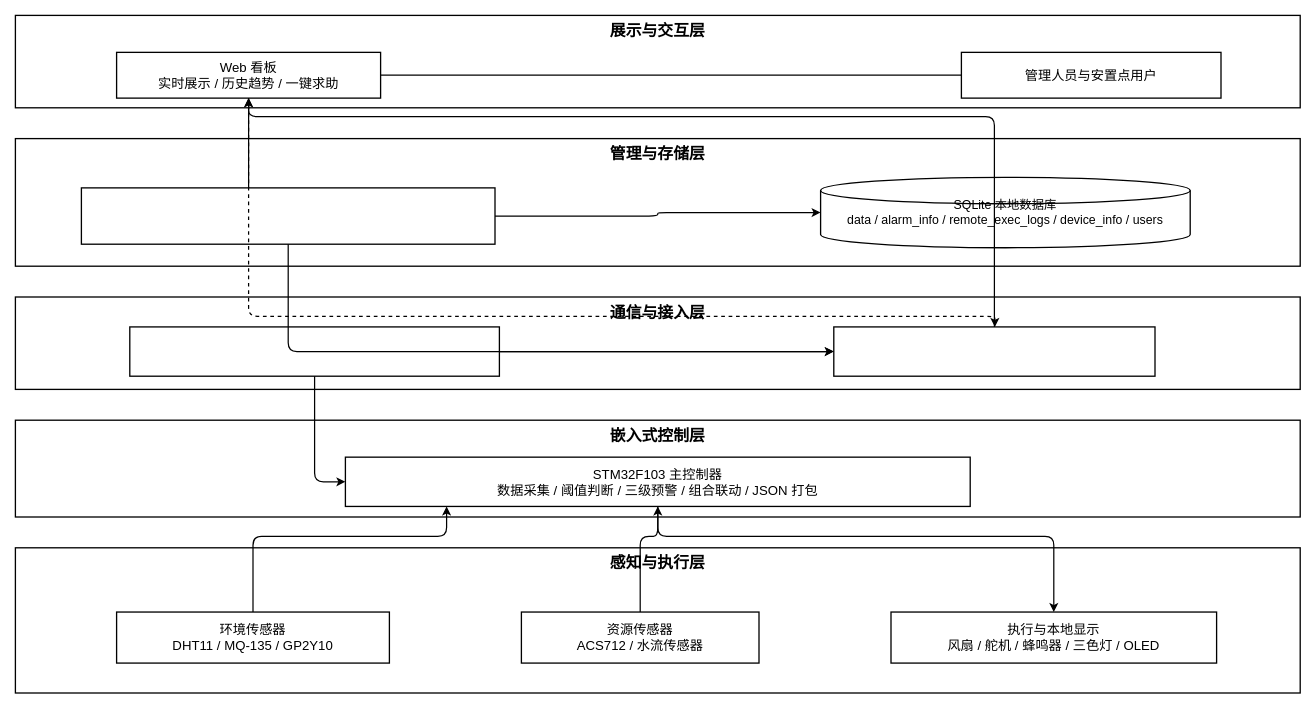
This 1316x709 diagram has some shape labels left out. The shapes that lost their labels are listed below. From the top down, each one's centre as x and y in pixels, then its label:
At point (287, 215): "Qt 桌面管理端 实时监测 / 阈值设置 / 远程控制 / 报警管理 / 历史查询 / 用户认证".
At point (314, 351): "ESP32 通信网关 UART 缓存 / WiFi 接入 / MQTT 发布订阅 / 命令转发 / 防回环".
At point (994, 351): "MQTT 消息服务 test001up / WebQT1".
